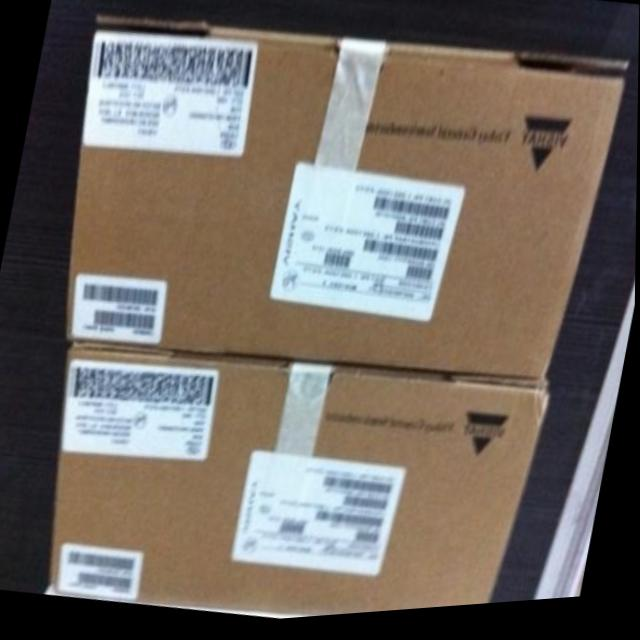box: (66, 18, 630, 387), (52, 343, 551, 620)
